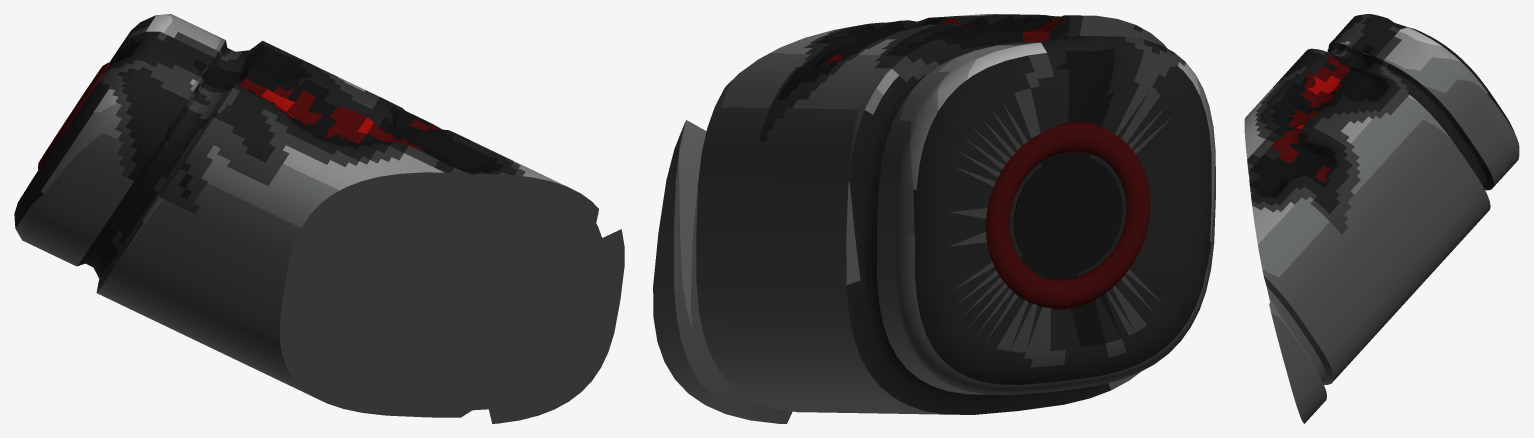
The model's file is field_gun_barrel_damaged.glb.
3 renders of one model, left to right at view 1: azimuth 30°, elevation 25°; view 2: azimuth 150°, elevation 25°; view 3: azimuth 270°, elevation 25°, orthographic. The views are drawn at different scales.
Visible parts, largest first — view 1: field_gun_barrel_damaged; view 2: field_gun_barrel_damaged; view 3: field_gun_barrel_damaged.
Boxes of the visible parts, box(x1,y1,x2,y2) form: field_gun_barrel_damaged: box(14, 14, 624, 423); field_gun_barrel_damaged: box(653, 14, 1215, 423); field_gun_barrel_damaged: box(1244, 14, 1519, 423).
Bounding box in the file's own units: 24.52 × 19.03 × 16.63.
